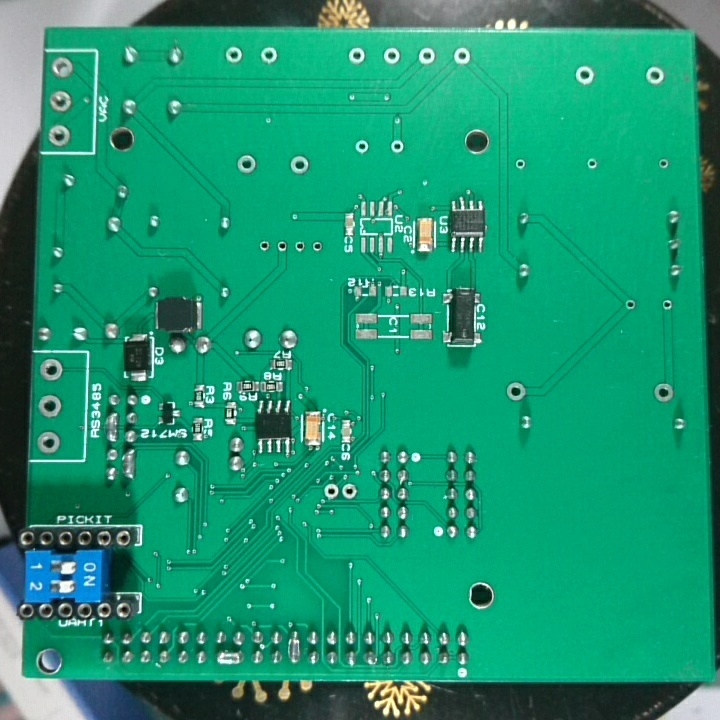F: (35, 392, 64, 420), (37, 355, 65, 383), (34, 429, 62, 455), (49, 55, 75, 82), (47, 122, 74, 147), (234, 153, 259, 178), (287, 152, 311, 178), (48, 88, 72, 113), (573, 63, 598, 87), (257, 43, 281, 68), (449, 44, 475, 67), (505, 379, 529, 403), (222, 43, 246, 67), (644, 64, 667, 89), (415, 44, 438, 69), (652, 380, 675, 403), (345, 44, 367, 66), (381, 46, 404, 66), (339, 480, 359, 501), (352, 137, 372, 158), (322, 480, 340, 502), (388, 135, 406, 156), (291, 236, 307, 258), (274, 238, 291, 258), (510, 155, 529, 172), (659, 295, 674, 316), (585, 155, 600, 176), (256, 238, 272, 256), (622, 296, 637, 315), (656, 155, 671, 172), (310, 236, 322, 256)
P: (119, 446, 139, 482), (213, 646, 244, 667), (286, 626, 302, 666), (102, 409, 119, 444)
